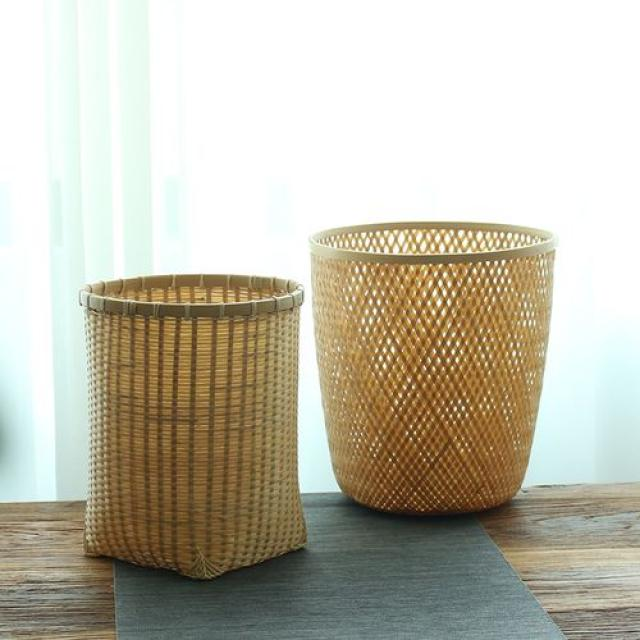dustbin: (305, 218, 560, 522), (76, 268, 312, 582)
